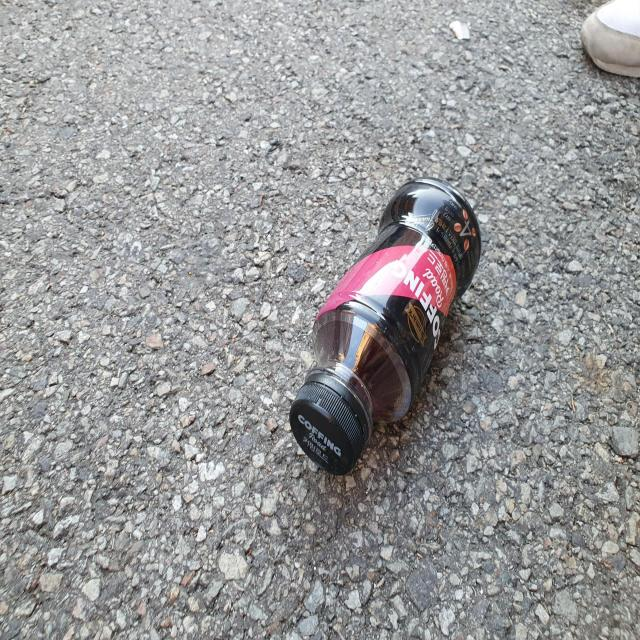plastic: (290, 178, 482, 475)
